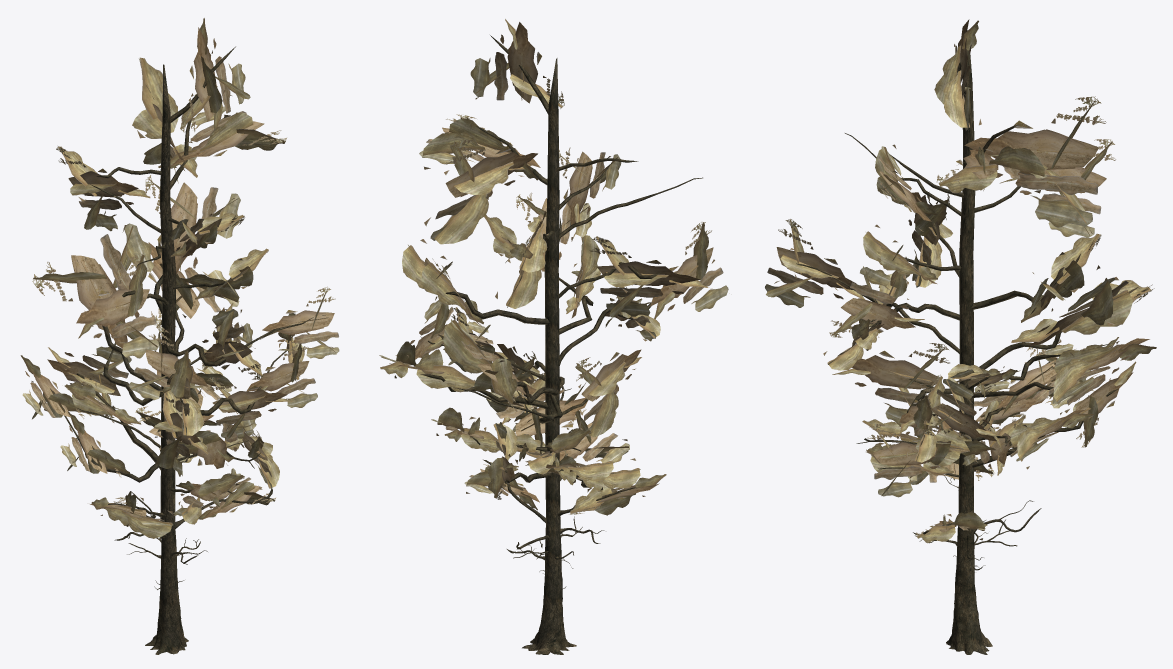
Rendered from tree03.fbx.
The picture shows the model from 3 angles, left to right: view 1: azimuth 30°, elevation 25°; view 2: azimuth 150°, elevation 25°; view 3: azimuth 270°, elevation 25°; orthographic projection. The views are drawn at different scales.
Parts seen in each view (by area): view 1: SM_TallTree04_Leaves.mo, SM_TallTree04.mo; view 2: SM_TallTree04_Leaves.mo, SM_TallTree04.mo; view 3: SM_TallTree04_Leaves.mo, SM_TallTree04.mo.
Part boxes in pixels (x1=…): SM_TallTree04_Leaves.mo: x1=20, y1=18, x2=339, y2=538; SM_TallTree04.mo: x1=64, y1=46, x2=313, y2=654; SM_TallTree04_Leaves.mo: x1=379, y1=19, x2=728, y2=515; SM_TallTree04.mo: x1=420, y1=35, x2=702, y2=654; SM_TallTree04_Leaves.mo: x1=765, y1=19, x2=1156, y2=543; SM_TallTree04.mo: x1=796, y1=30, x2=1118, y2=654.
Bounding box in the file's own units: 1190 × 2644 × 1471.
